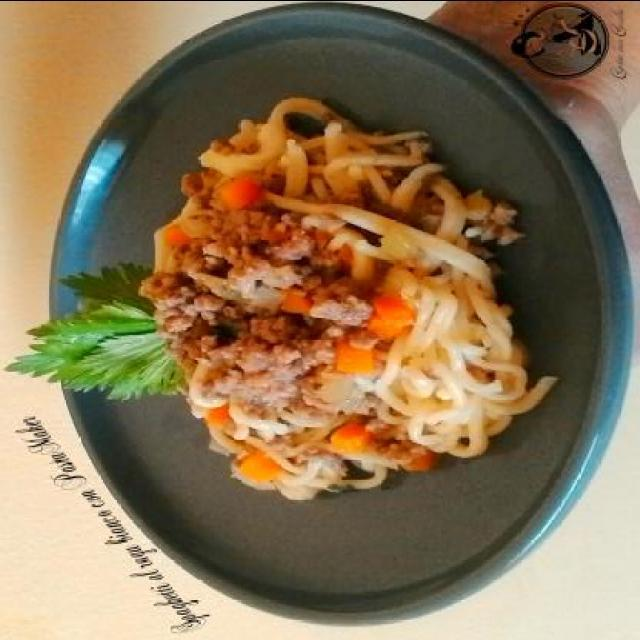Pasta al ragu: (18, 78, 538, 524)
